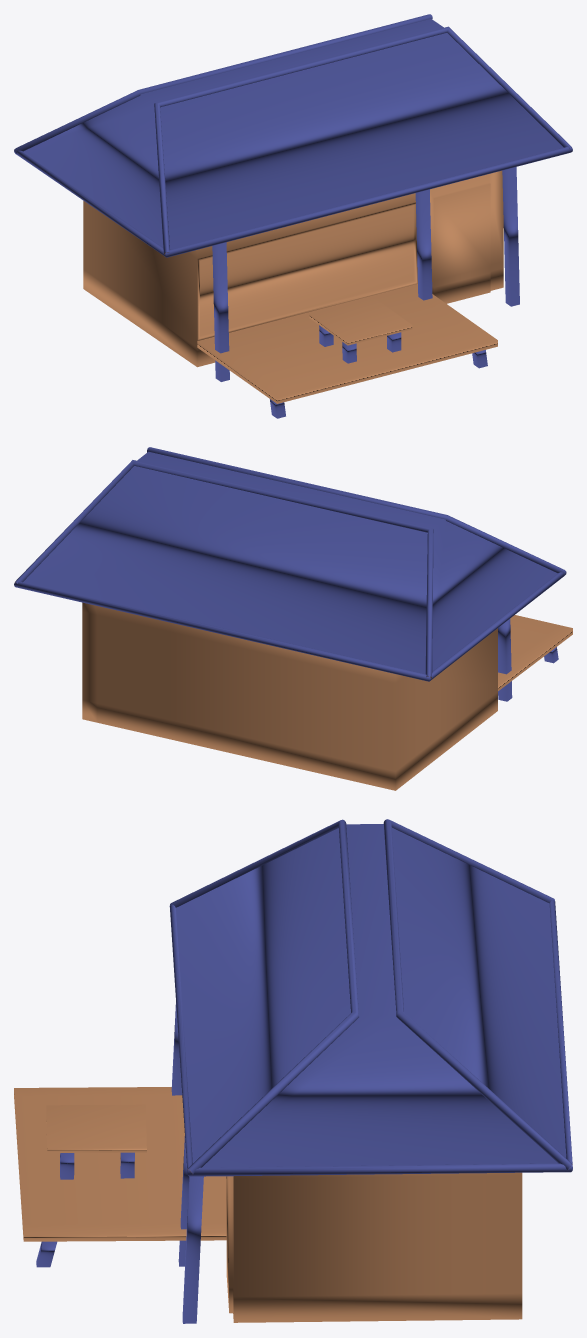
File: 072_集会所.glb
The picture shows the model from 3 angles, top to bottom: view 1: azimuth 30°, elevation 25°; view 2: azimuth 150°, elevation 25°; view 3: azimuth 270°, elevation 25°; orthographic projection. The views are drawn at different scales.
Visible parts, largest first — view 1: 立方体126_4, 立方体126_1, 立方体126_2, 立方体126_3, 立方体126; view 2: 立方体126_4, 立方体126_1, 立方体126_3; view 3: 立方体126_4, 立方体126_1, 立方体126, 立方体126_3, 立方体126_2.
Boxes of the visible parts, x1=… form: 立方体126_4: x1=14, y1=14, x2=572, y2=257; 立方体126_1: x1=83, y1=170, x2=503, y2=403; 立方体126_2: x1=200, y1=183, x2=490, y2=335; 立方体126_3: x1=212, y1=167, x2=519, y2=418; 立方体126: x1=210, y1=287, x2=485, y2=400; 立方体126_4: x1=14, y1=447, x2=566, y2=681; 立方体126_1: x1=15, y1=582, x2=572, y2=790; 立方体126_3: x1=498, y1=619, x2=558, y2=701; 立方体126_4: x1=169, y1=819, x2=572, y2=1176; 立方体126_1: x1=14, y1=1087, x2=572, y2=1322; 立方体126: x1=15, y1=1095, x2=226, y2=1224; 立方体126_3: x1=36, y1=1003, x2=203, y2=1323; 立方体126_2: x1=226, y1=1176, x2=232, y2=1313.
Bounding box in the file's own units: 6.98 × 3.67 × 6.04.
